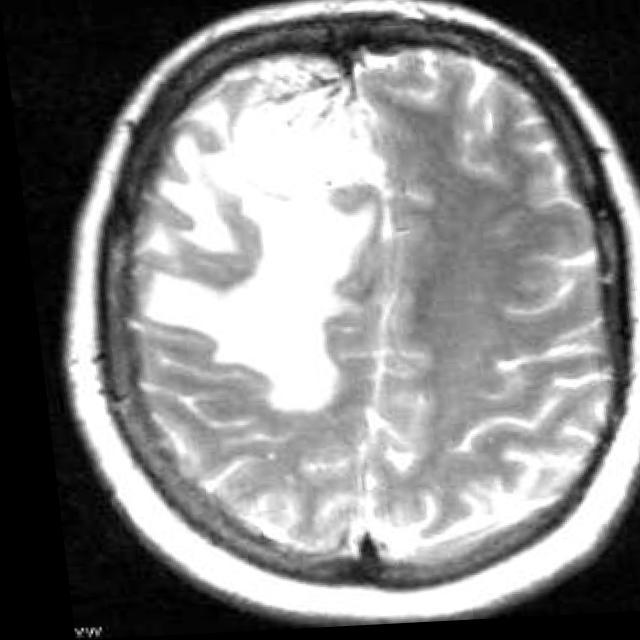Tumor: (133, 99, 365, 415)
